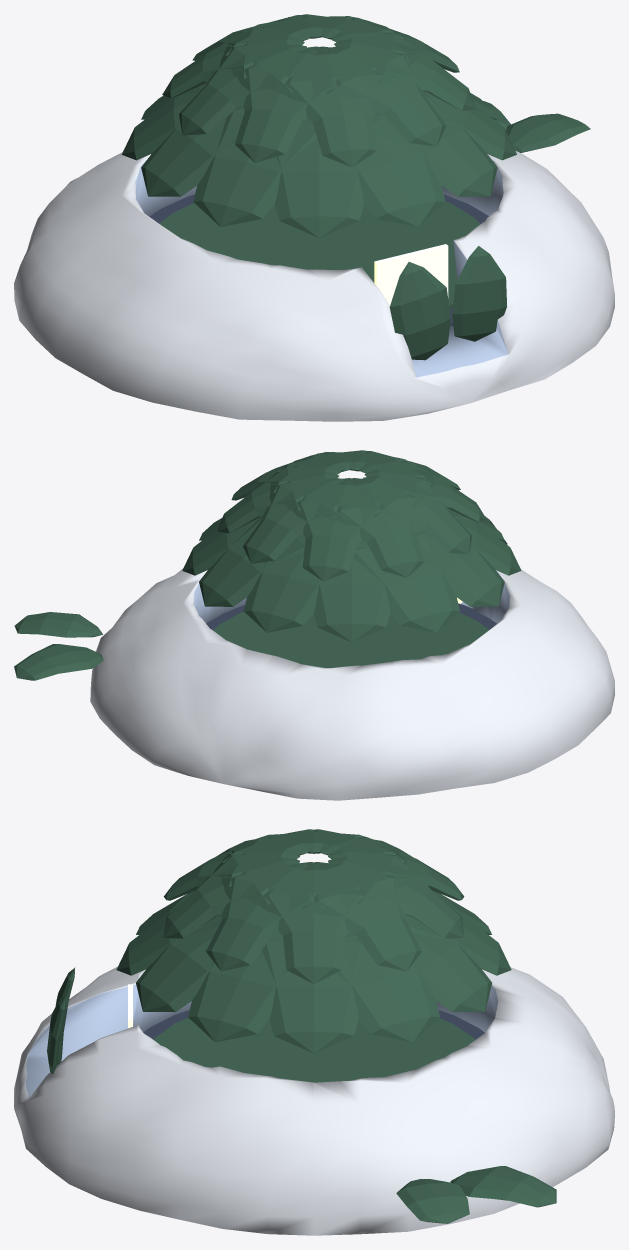
File: TreeWell.glb
3 renders of one model, top to bottom at view 1: azimuth 30°, elevation 25°; view 2: azimuth 150°, elevation 25°; view 3: azimuth 270°, elevation 25°, orthographic. The views are drawn at different scales.
Visible parts, largest first — view 1: s1_5__berm, s4_5__roof, s3_5__floor, s5_5__door, s2_5__trimmings, s5_5__glow, s1_2__pitfloor; view 2: s1_5__berm, s4_5__roof, s3_5__floor, s2_5__trimmings, s1_2__pitfloor; view 3: s1_5__berm, s4_5__roof, s3_5__floor, s2_5__trimmings, s5_5__door, s1_2__pitfloor.
Part boxes in pixels (x1,y1,x2,y2): s1_5__berm: (14, 151, 614, 421); s4_5__roof: (122, 14, 516, 238); s3_5__floor: (159, 202, 480, 309); s5_5__door: (389, 246, 506, 360); s2_5__trimmings: (483, 101, 590, 152); s5_5__glow: (374, 244, 448, 305); s1_2__pitfloor: (149, 194, 488, 325); s1_5__berm: (90, 569, 614, 800); s4_5__roof: (182, 450, 521, 642); s3_5__floor: (213, 612, 488, 667); s2_5__trimmings: (14, 612, 103, 680); s1_2__pitfloor: (206, 603, 496, 629); s1_5__berm: (14, 966, 614, 1235); s4_5__roof: (116, 829, 511, 1053); s3_5__floor: (153, 1017, 474, 1082); s2_5__trimmings: (396, 1166, 556, 1223); s5_5__door: (47, 967, 75, 1074); s1_2__pitfloor: (143, 1010, 484, 1039).
Bounding box in the file's own units: 5.75 × 2.35 × 5.07.
